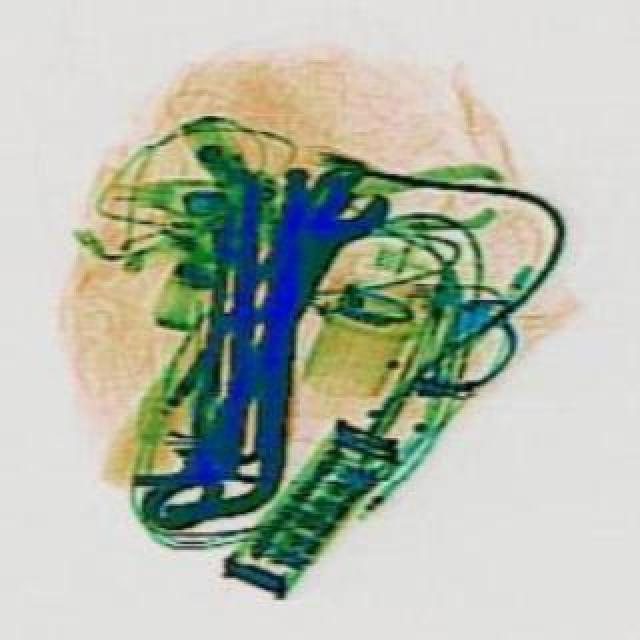scissors: (232, 172, 390, 360)
